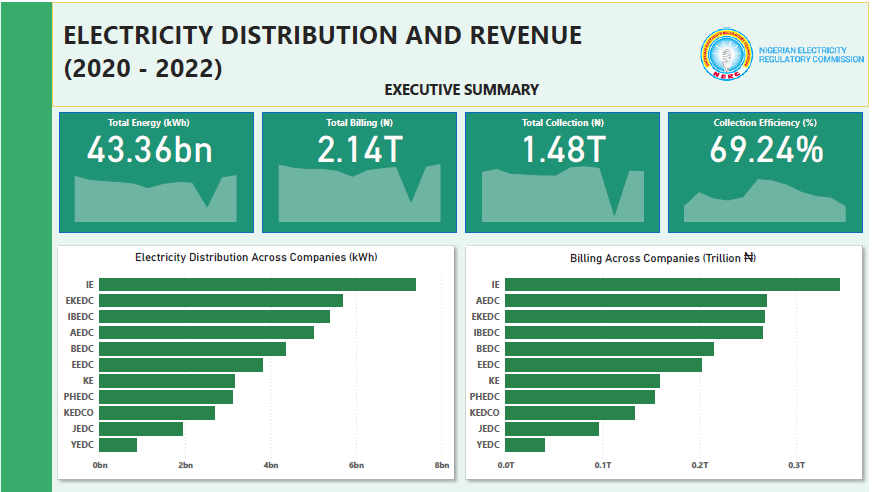

This screenshot's page, from the dashboard's own definition file:
{"tool":"powerbi","page":{"name":"Executive Summary","canvas":[1280,720],"ordinal":1},"visuals":[{"type":"shape","box":[82.7,0,1197.7,152.7],"z":0},{"type":"shape","box":[986.2,162.2,284.7,175],"z":1000},{"type":"shape","box":[688.7,162.2,284.7,175],"z":2000},{"type":"shape","box":[391.3,162.2,284.7,175],"z":3000},{"type":"shape","box":[93.8,162.2,284.7,175],"z":4000},{"type":"shape","box":[9.4,0,73.7,720],"z":5000},{"type":"card","fields":{"Values":["Merged_table.Total Energy (kWh)"]},"box":[114.5,165.4,222.7,85.9],"z":6000},{"type":"image","box":[1027.5,0,249.7,152.7],"z":7000},{"type":"shape","box":[82.7,132,1197.7,39.8],"z":8000},{"type":"areaChart","fields":{"Category":["Merged_table.date.Variation.Date Hierarchy.Month"],"Y":["Sum(Merged_table.energy_kwh)"]},"box":[103.4,221.1,264,105],"z":9000},{"type":"textbox","box":[151.1,162.2,147.9,28.6],"z":10000},{"type":"textbox","box":[448.6,162.2,170.2,28.6],"z":11000},{"type":"textbox","box":[739.6,162.2,184.5,28.6],"z":12000},{"type":"textbox","box":[1030.7,162.2,195.6,28.6],"z":13000},{"type":"card","fields":{"Values":["Sum(Merged_table.billing.billing_naira)"]},"box":[423.1,165.4,222.7,85.9],"z":14000},{"type":"card","fields":{"Values":["Sum(Merged_table.collection.collection_naira)"]},"box":[720.5,165.4,222.7,85.9],"z":15000},{"type":"card","fields":{"Values":["Merged_table.Collection Efficiency (%)"]},"box":[1018,165.4,222.7,85.9],"z":16000},{"type":"areaChart","fields":{"Category":["Merged_table.date.Variation.Date Hierarchy.Month"],"Y":["Sum(Merged_table.collection.collection_naira)"]},"box":[699.9,221.1,264,105],"z":17000},{"type":"areaChart","fields":{"Category":["Merged_table.date.Variation.Date Hierarchy.Month"],"Y":["Sum(Merged_table.billing.billing_naira)"]},"box":[402.4,221.1,264,105],"z":18000},{"type":"areaChart","fields":{"Category":["Merged_table.date.Variation.Date Hierarchy.Month"],"Y":["Merged_table.Collection Efficiency (%)"]},"box":[995.7,221.1,264,105],"z":19000},{"type":"shape","box":[82.7,348.3,599.7,361.1],"z":20000},{"type":"shape","box":[680.8,348.3,599.7,361.1],"z":21000},{"type":"clusteredBarChart","title":"Electricity Distribution Across Companies (kWh)","fields":{"Category":["Merged_table.disco"],"Y":["Sum(Merged_table.energy_kwh)"]},"box":[93.8,362.7,575.8,334],"z":22000},{"type":"clusteredBarChart","title":"Billing Across Companies (Trillion ₦)","fields":{"Category":["Merged_table.disco"],"Y":["Sum(Merged_table.billing.billing_naira)"]},"box":[688.7,362.7,579,334],"z":23000},{"type":"textbox","box":[93.8,15.9,830.3,116.1],"z":24000},{"type":"textbox","box":[534.4,108.2,299,39.8],"z":25000}]}

Visuals, with their boxes in screenshot pixels (x1, y1, x2, y2), scaled from the page's 1280x720 canvas onto the 880x492 screenshot:
shape: [left=57, top=0, right=879, bottom=104]
shape: [left=678, top=111, right=874, bottom=230]
shape: [left=473, top=111, right=669, bottom=230]
shape: [left=269, top=111, right=465, bottom=230]
shape: [left=64, top=111, right=260, bottom=230]
shape: [left=6, top=0, right=57, bottom=491]
card - Merged_table.Total Energy (kWh): [left=79, top=113, right=232, bottom=172]
image: [left=706, top=0, right=878, bottom=104]
shape: [left=57, top=90, right=879, bottom=117]
areaChart - Merged_table.date.Variation.Date Hierarchy.Month x Sum(Merged_table.energy_kwh): [left=71, top=151, right=253, bottom=223]
textbox: [left=104, top=111, right=206, bottom=130]
textbox: [left=308, top=111, right=425, bottom=130]
textbox: [left=508, top=111, right=635, bottom=130]
textbox: [left=709, top=111, right=843, bottom=130]
card - Sum(Merged_table.billing.billing_naira): [left=291, top=113, right=444, bottom=172]
card - Sum(Merged_table.collection.collection_naira): [left=495, top=113, right=648, bottom=172]
card - Merged_table.Collection Efficiency (%): [left=700, top=113, right=853, bottom=172]
areaChart - Merged_table.date.Variation.Date Hierarchy.Month x Sum(Merged_table.collection.collection_naira): [left=481, top=151, right=663, bottom=223]
areaChart - Merged_table.date.Variation.Date Hierarchy.Month x Sum(Merged_table.billing.billing_naira): [left=277, top=151, right=458, bottom=223]
areaChart - Merged_table.date.Variation.Date Hierarchy.Month x Merged_table.Collection Efficiency (%): [left=685, top=151, right=866, bottom=223]
shape: [left=57, top=238, right=469, bottom=485]
shape: [left=468, top=238, right=879, bottom=485]
"Electricity Distribution Across Companies (kWh)" clusteredBarChart: [left=64, top=248, right=460, bottom=476]
"Billing Across Companies (Trillion ₦)" clusteredBarChart: [left=473, top=248, right=872, bottom=476]
textbox: [left=64, top=11, right=635, bottom=90]
textbox: [left=367, top=74, right=573, bottom=101]
